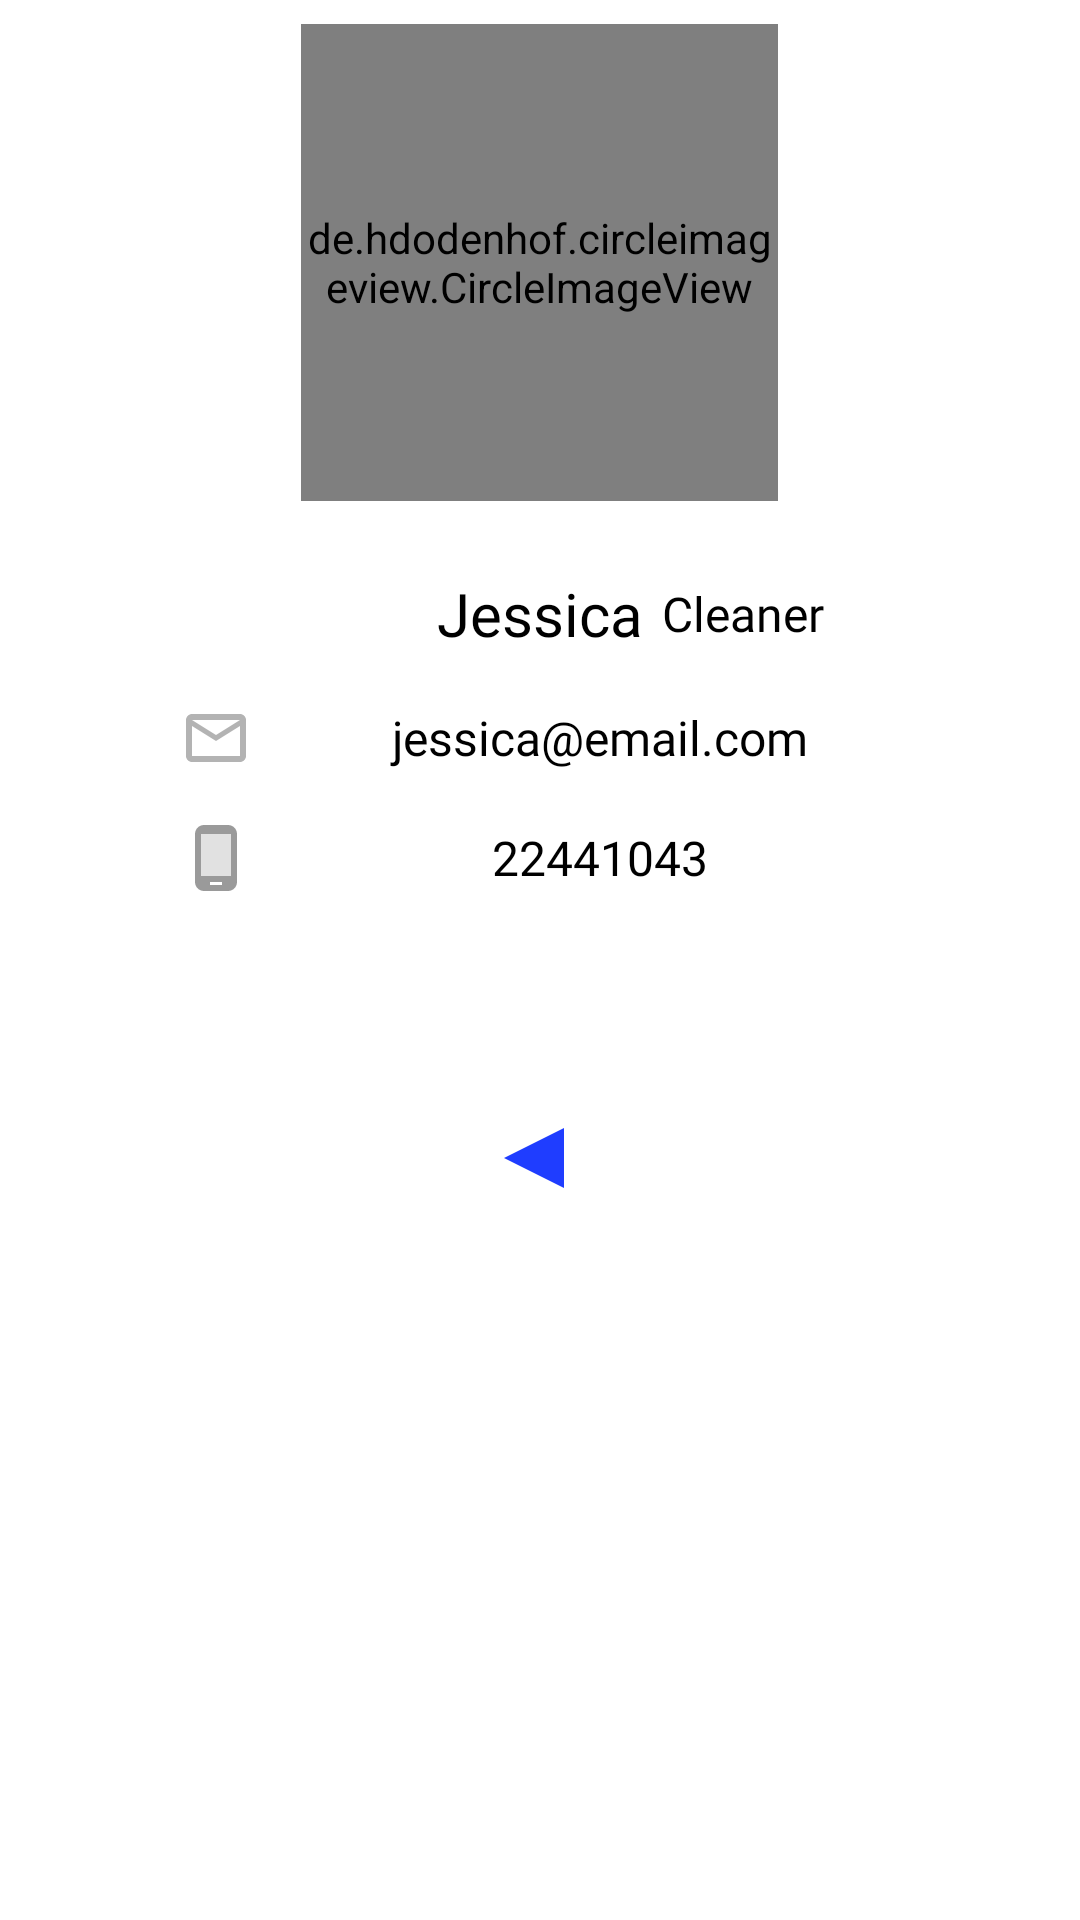

Screen size 1080×1920. Icon name, then its center in pixels as (x,y):
arrow back: (534,1158)
